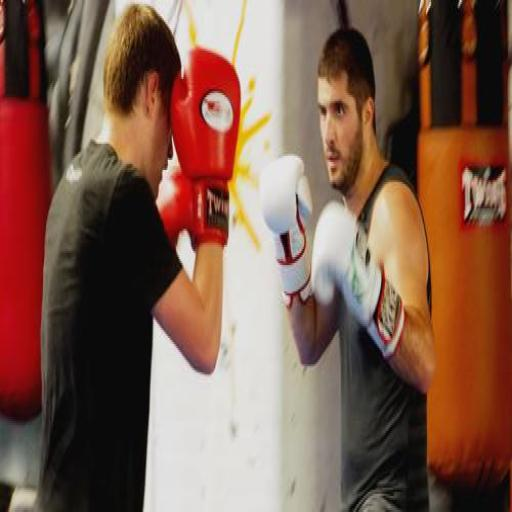boxing: (272, 42, 457, 512), (69, 35, 243, 420)
